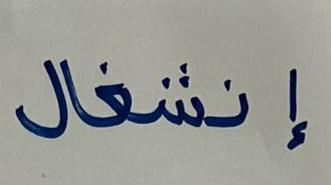alef: (63, 52, 82, 132)
ghain: (90, 54, 143, 149)
hamza: (269, 45, 317, 164)
lam: (9, 52, 58, 148)
noon: (213, 66, 258, 145)
sheen: (154, 56, 209, 152)
